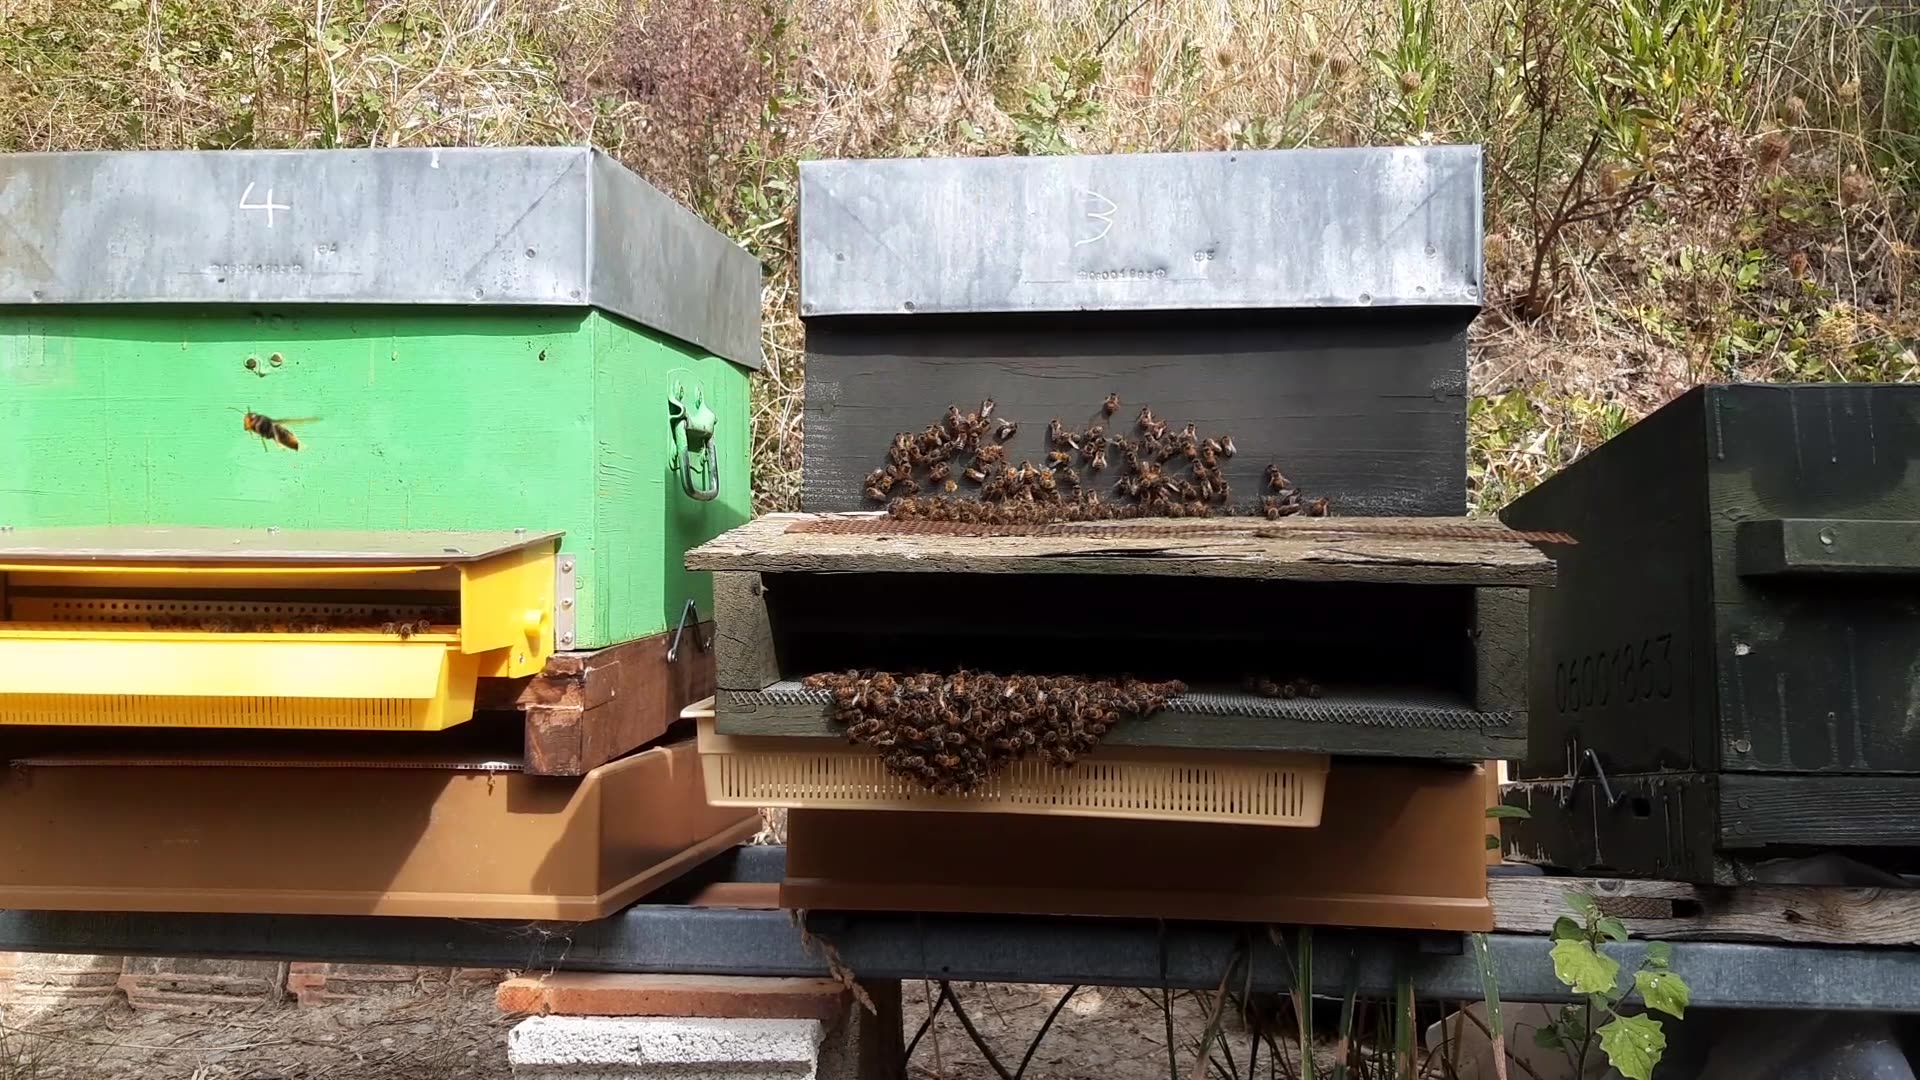bee: (910, 680, 989, 742), (861, 454, 940, 506), (868, 737, 934, 798), (1145, 463, 1215, 520), (936, 415, 1010, 468), (1042, 469, 1105, 525), (945, 473, 1007, 526), (1238, 458, 1294, 516), (1135, 427, 1196, 477), (1073, 417, 1131, 464)
